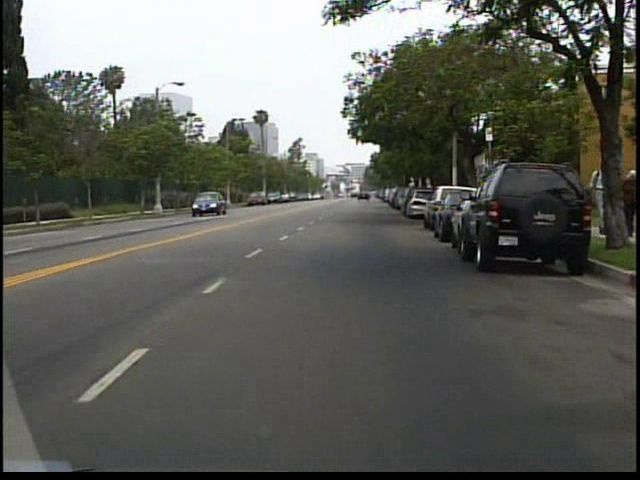person: (582, 156, 607, 240), (617, 161, 637, 242)
